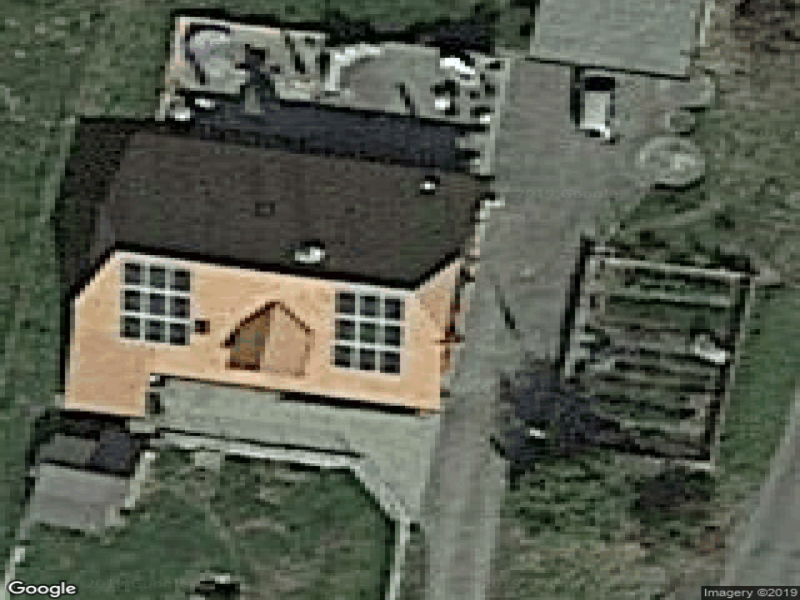pv: (120, 261, 195, 350), (332, 290, 403, 376)
